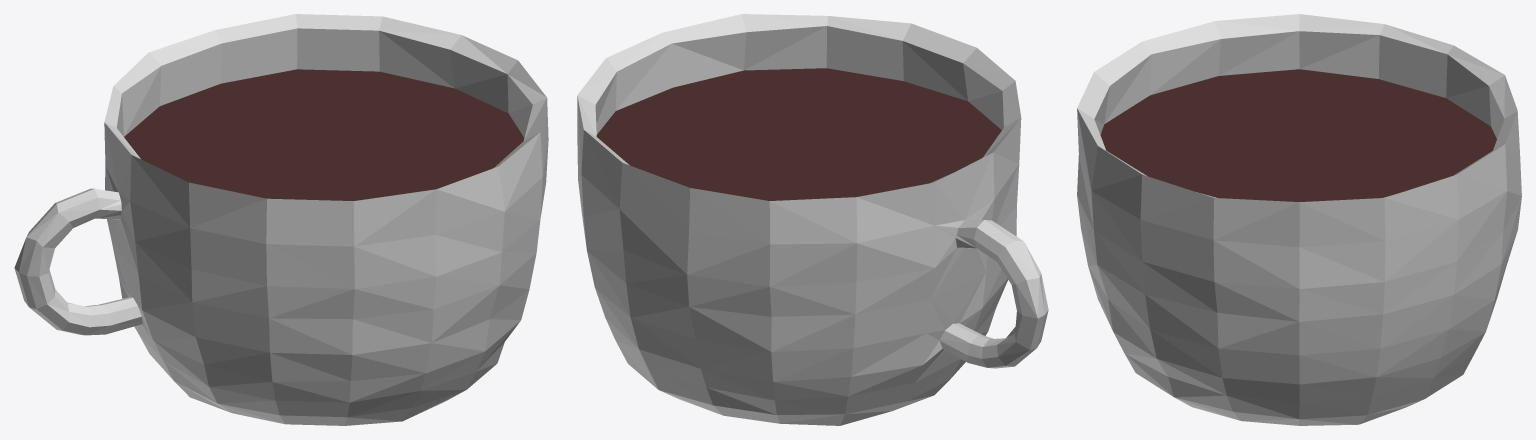
File: cup2.gltf
3 renders of one model, left to right at view 1: azimuth 30°, elevation 25°; view 2: azimuth 150°, elevation 25°; view 3: azimuth 270°, elevation 25°, orthographic.
Visible parts, largest first — view 1: Torus; view 2: Torus; view 3: Torus.
Boxes of the visible parts, x1,y1,x2,y2 form: Torus: [14, 14, 548, 425]; Torus: [577, 14, 1048, 425]; Torus: [1077, 14, 1521, 425].
Size of the model in its own units: 3.21 by 1.68 by 2.65.
